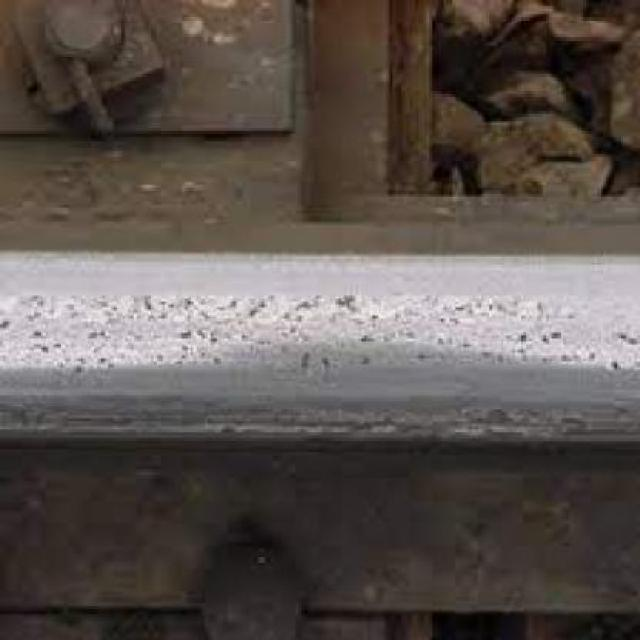defective: (0, 208, 640, 526)
